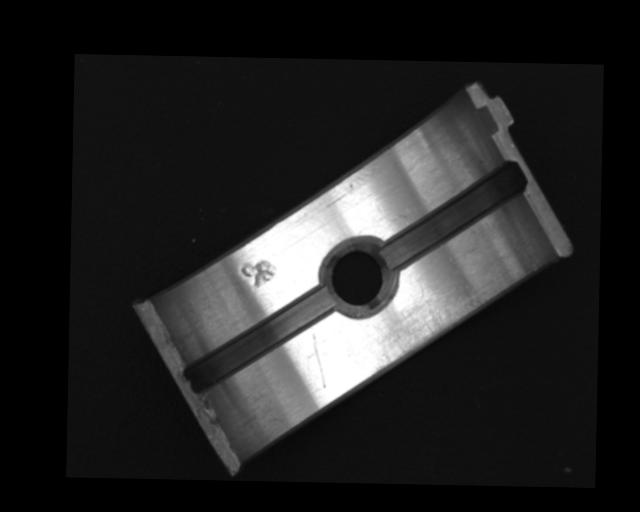bruise: (238, 259, 278, 293)
gap: (378, 159, 528, 272), (183, 286, 335, 395)
hole: (319, 233, 398, 316)
nick: (309, 330, 327, 389)
scratch: (369, 278, 487, 378)
